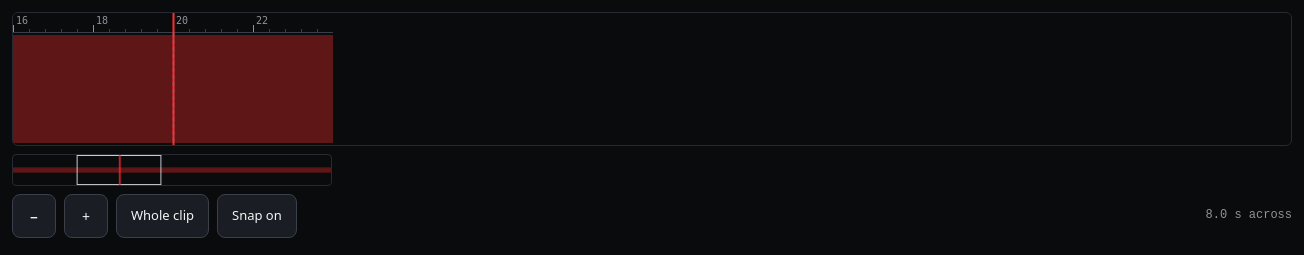
Test: BeepReticle › pinching apart zooms in about the line
Press the mouse on the slider with test id "reticle-main" at (652, 79), box [12,12,1292,146]
Press the mouse on the slider with test id "reticle-main" at (652, 79), box [12,12,1292,146]
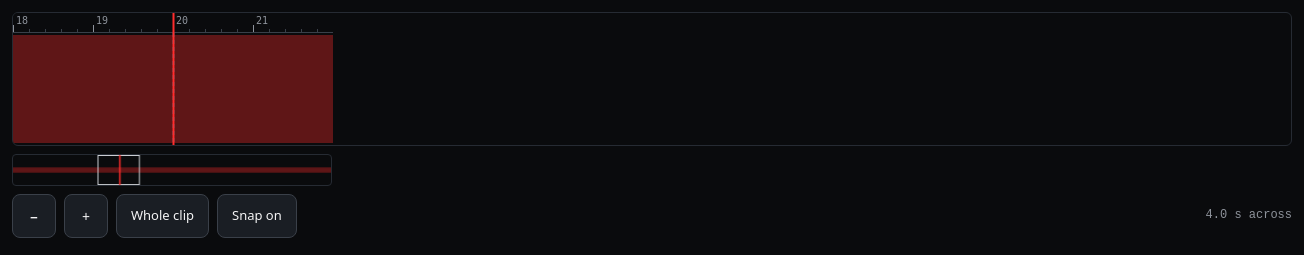
Result: the text "4.0 s across" is shown at [1206,207,1292,224]
